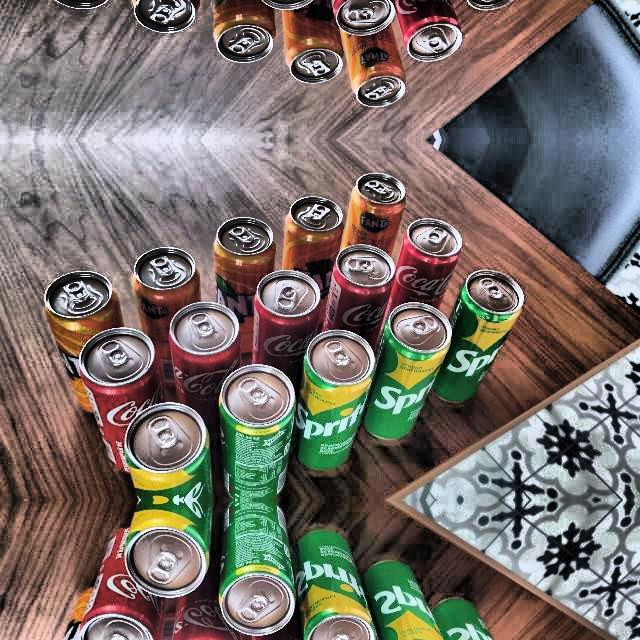Cans: (38, 258, 138, 431), (202, 333, 289, 512), (288, 310, 379, 475), (162, 284, 256, 442), (437, 258, 528, 418), (119, 223, 211, 377), (78, 326, 167, 480), (312, 222, 400, 368), (243, 261, 325, 407), (369, 290, 444, 446), (217, 493, 293, 640), (208, 201, 282, 339), (75, 512, 153, 640), (296, 522, 379, 640), (113, 502, 210, 598), (337, 160, 406, 288), (388, 195, 445, 348), (368, 535, 448, 640), (336, 17, 414, 121), (275, 192, 343, 311), (267, 0, 345, 88), (198, 0, 283, 77), (382, 0, 464, 62), (117, 0, 207, 49), (318, 0, 393, 47)
